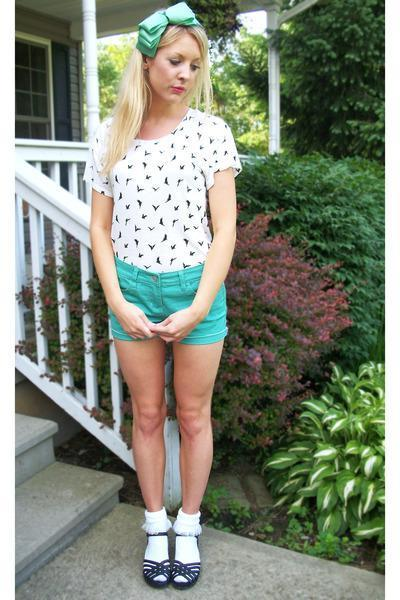Shorts: (103, 258, 229, 344)
short sleeve shirt: (81, 103, 241, 269)
